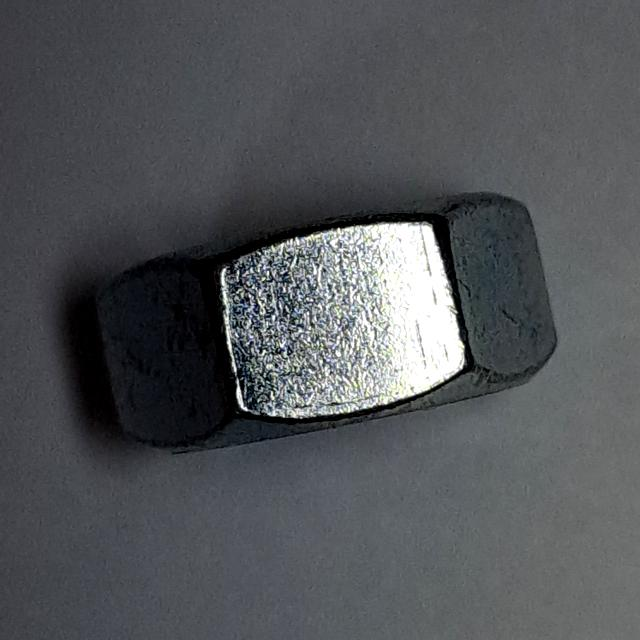Side_Excellent: (83, 166, 567, 483)
